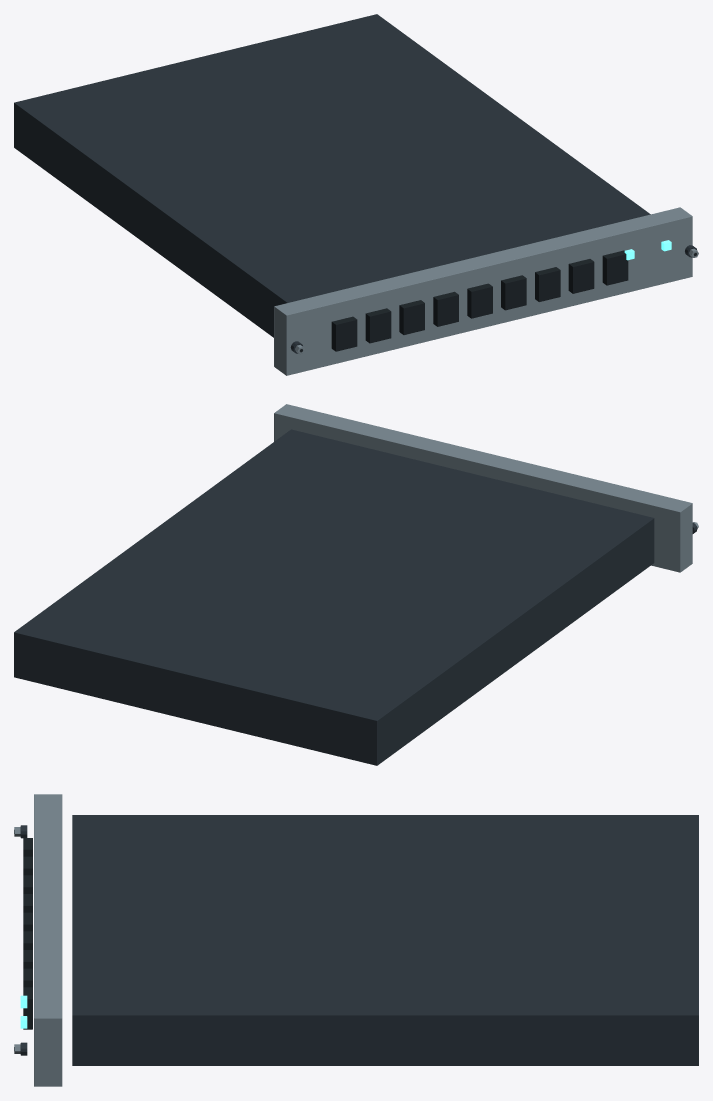
The model's file is SM_Lab_ServerRack__ServerBlade_02.fbx.
3 renders of one model, top to bottom at view 1: azimuth 30°, elevation 25°; view 2: azimuth 150°, elevation 25°; view 3: azimuth 270°, elevation 25°, orthographic. The views are drawn at different scales.
Parts seen in each view (by area): view 1: SM_Lab_ServerRack__ServerBlade_02; view 2: SM_Lab_ServerRack__ServerBlade_02; view 3: SM_Lab_ServerRack__ServerBlade_02.
Part boxes in pixels (bbox=[...]): SM_Lab_ServerRack__ServerBlade_02: bbox=[14, 14, 698, 375]; SM_Lab_ServerRack__ServerBlade_02: bbox=[14, 404, 698, 765]; SM_Lab_ServerRack__ServerBlade_02: bbox=[14, 794, 698, 1086].
Bounding box in the file's own units: 66 × 85.25 × 9.4.
